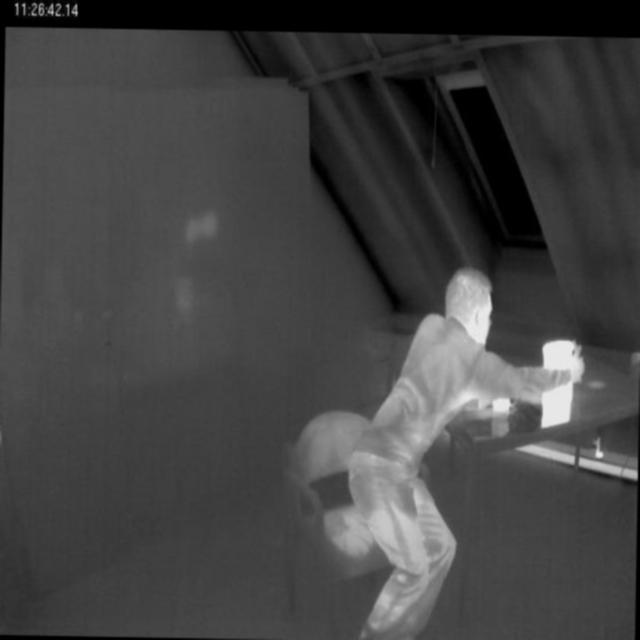person: (286, 271, 561, 640)
